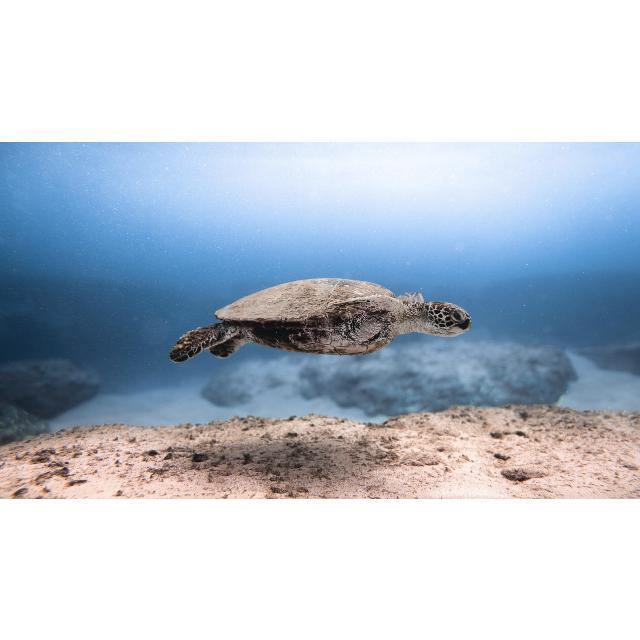turtle: (170, 276, 472, 364)
